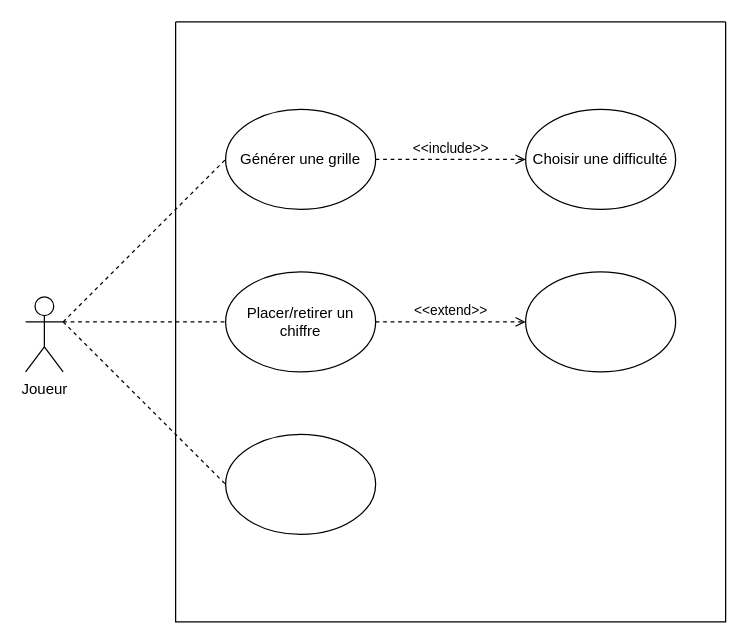
Some shapes in this 748 by 644 pixel diagram are drawn without their labels. Here are the shapes that lost their labels. From the top down, the centre of each, then its label:
At (x=600, y=321): "Gagner/perdre la partie".
At (x=300, y=483): "Placer/retirer une annotation".
